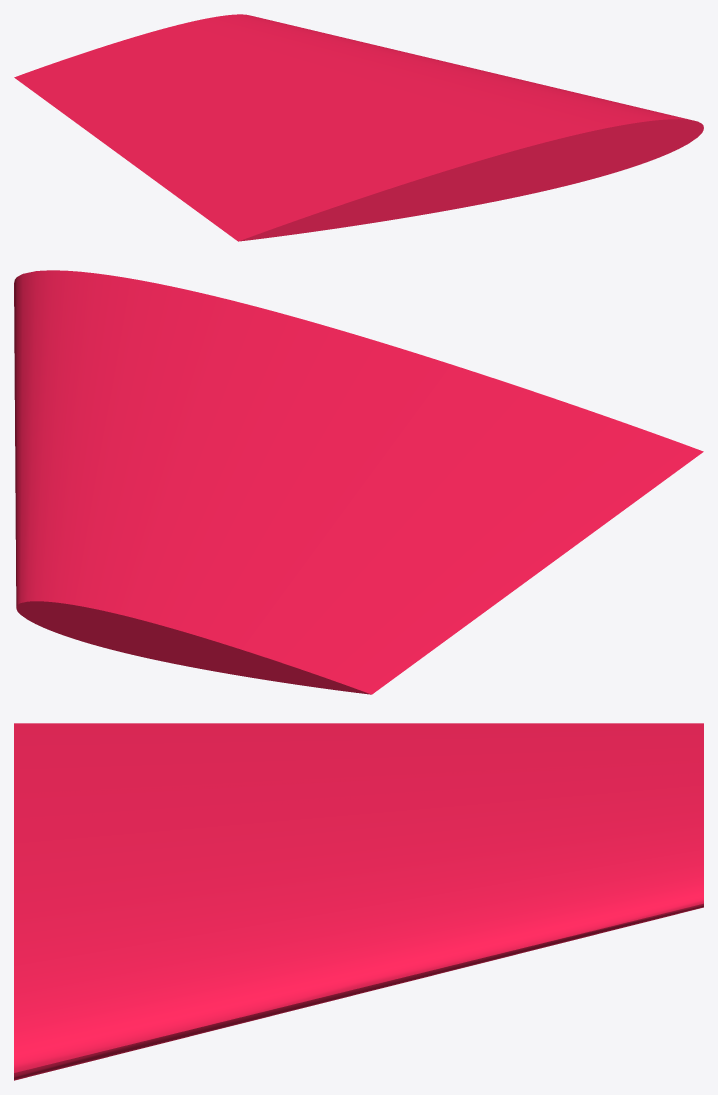
Rendered from fin.dae.
3 renders of one model, top to bottom at view 1: azimuth 30°, elevation 25°; view 2: azimuth 150°, elevation 25°; view 3: azimuth 270°, elevation 25°, orthographic. The views are drawn at different scales.
Parts seen in each view (by area): view 1: ab6d7775-7bd6-4aa2-b079-1d9e81b62676; view 2: ab6d7775-7bd6-4aa2-b079-1d9e81b62676; view 3: ab6d7775-7bd6-4aa2-b079-1d9e81b62676.
Boxes of the visible parts, left/top/right/bottom form: ab6d7775-7bd6-4aa2-b079-1d9e81b62676: left=14, top=14, right=703, bottom=241; ab6d7775-7bd6-4aa2-b079-1d9e81b62676: left=14, top=270, right=703, bottom=694; ab6d7775-7bd6-4aa2-b079-1d9e81b62676: left=14, top=723, right=703, bottom=1080.
Size of the model in its own units: 0.3 by 0.25 by 0.03.
